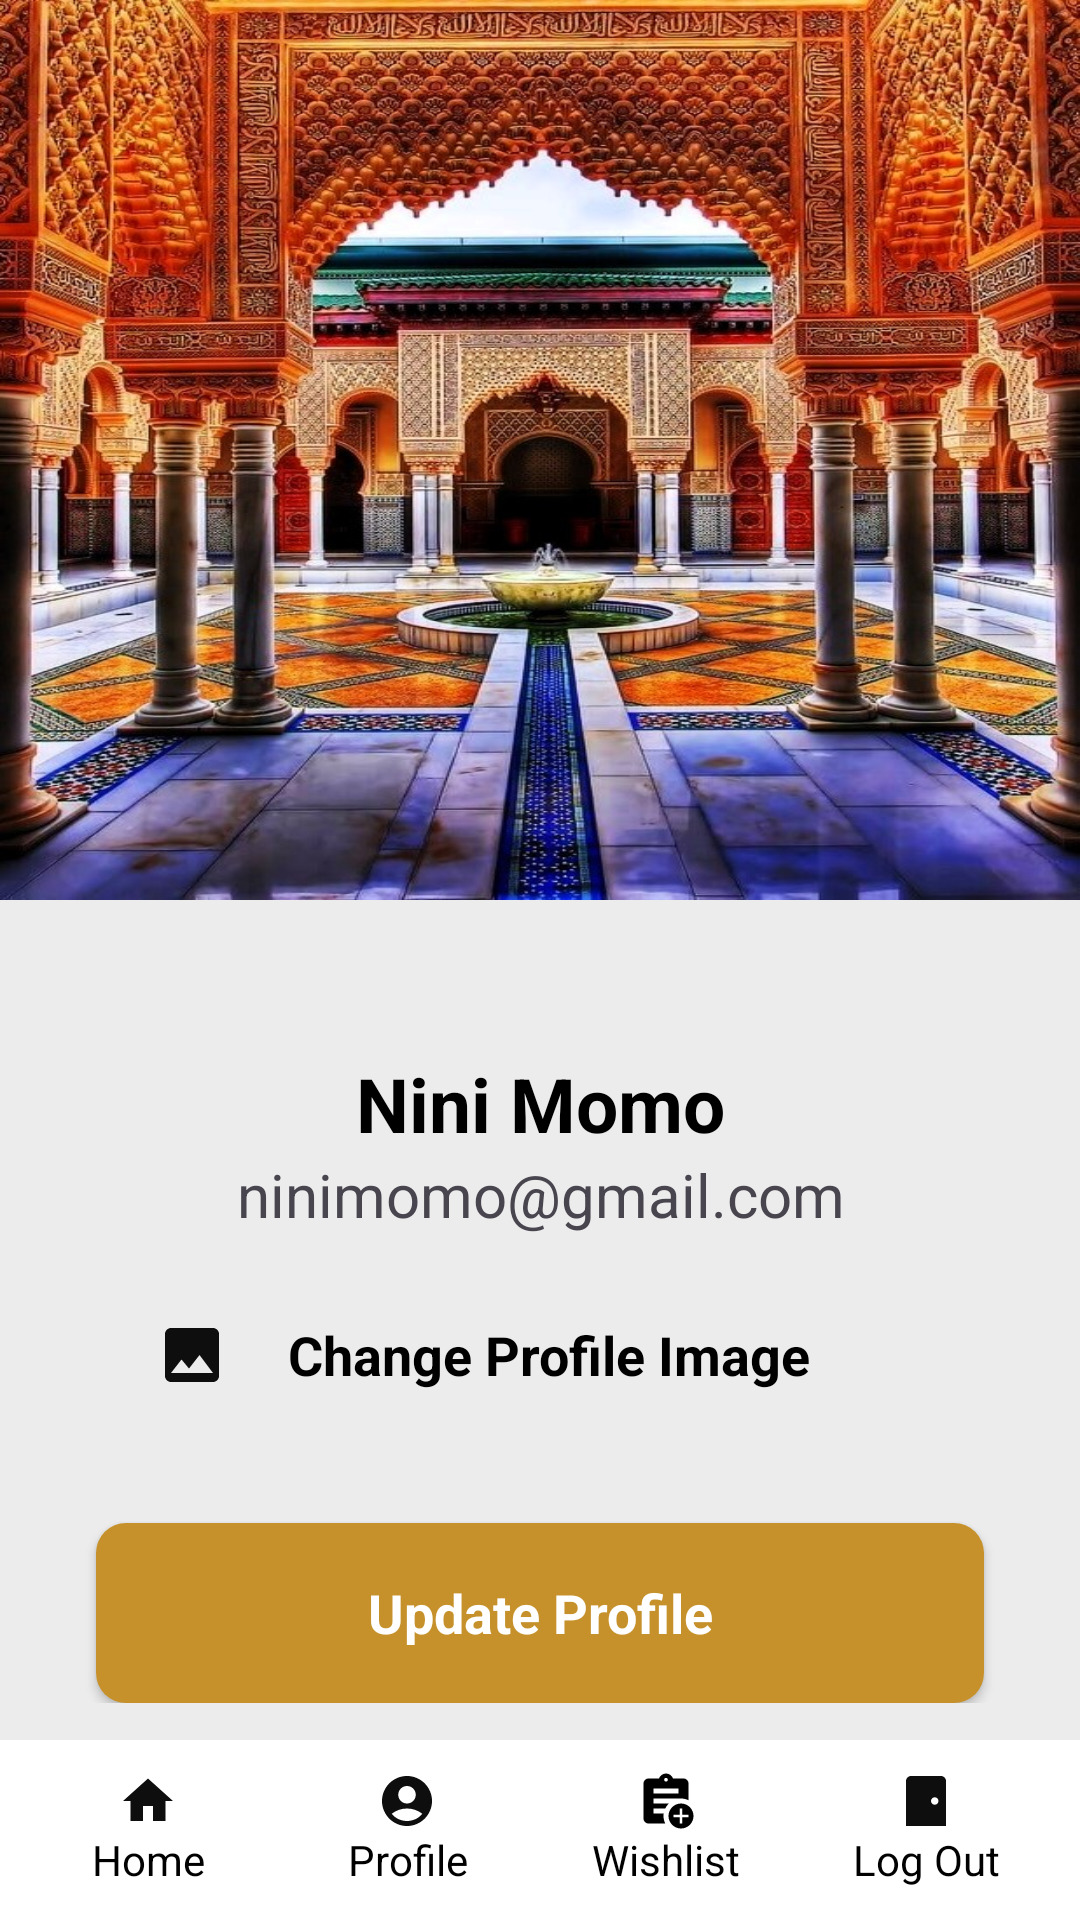

Where to tap for icons on this 1080w x 1920h app screen, as (x=x, y=y):
account circle: (x=407, y=1801)
assignment add: (x=668, y=1801)
sensor door: (x=926, y=1801)
